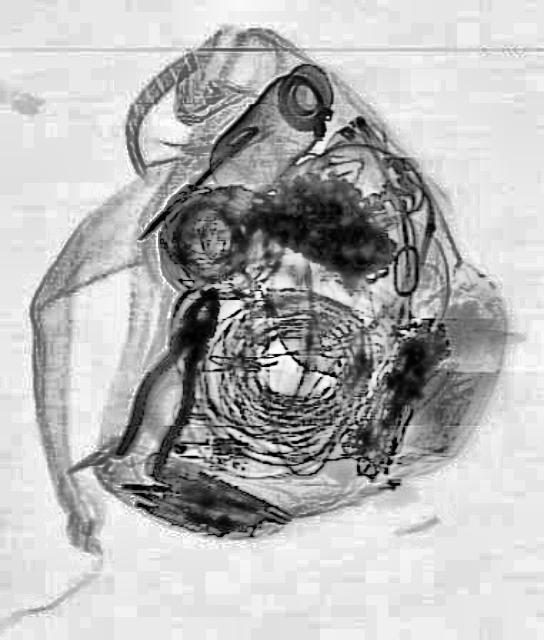Pliers: (104, 274, 238, 483)
